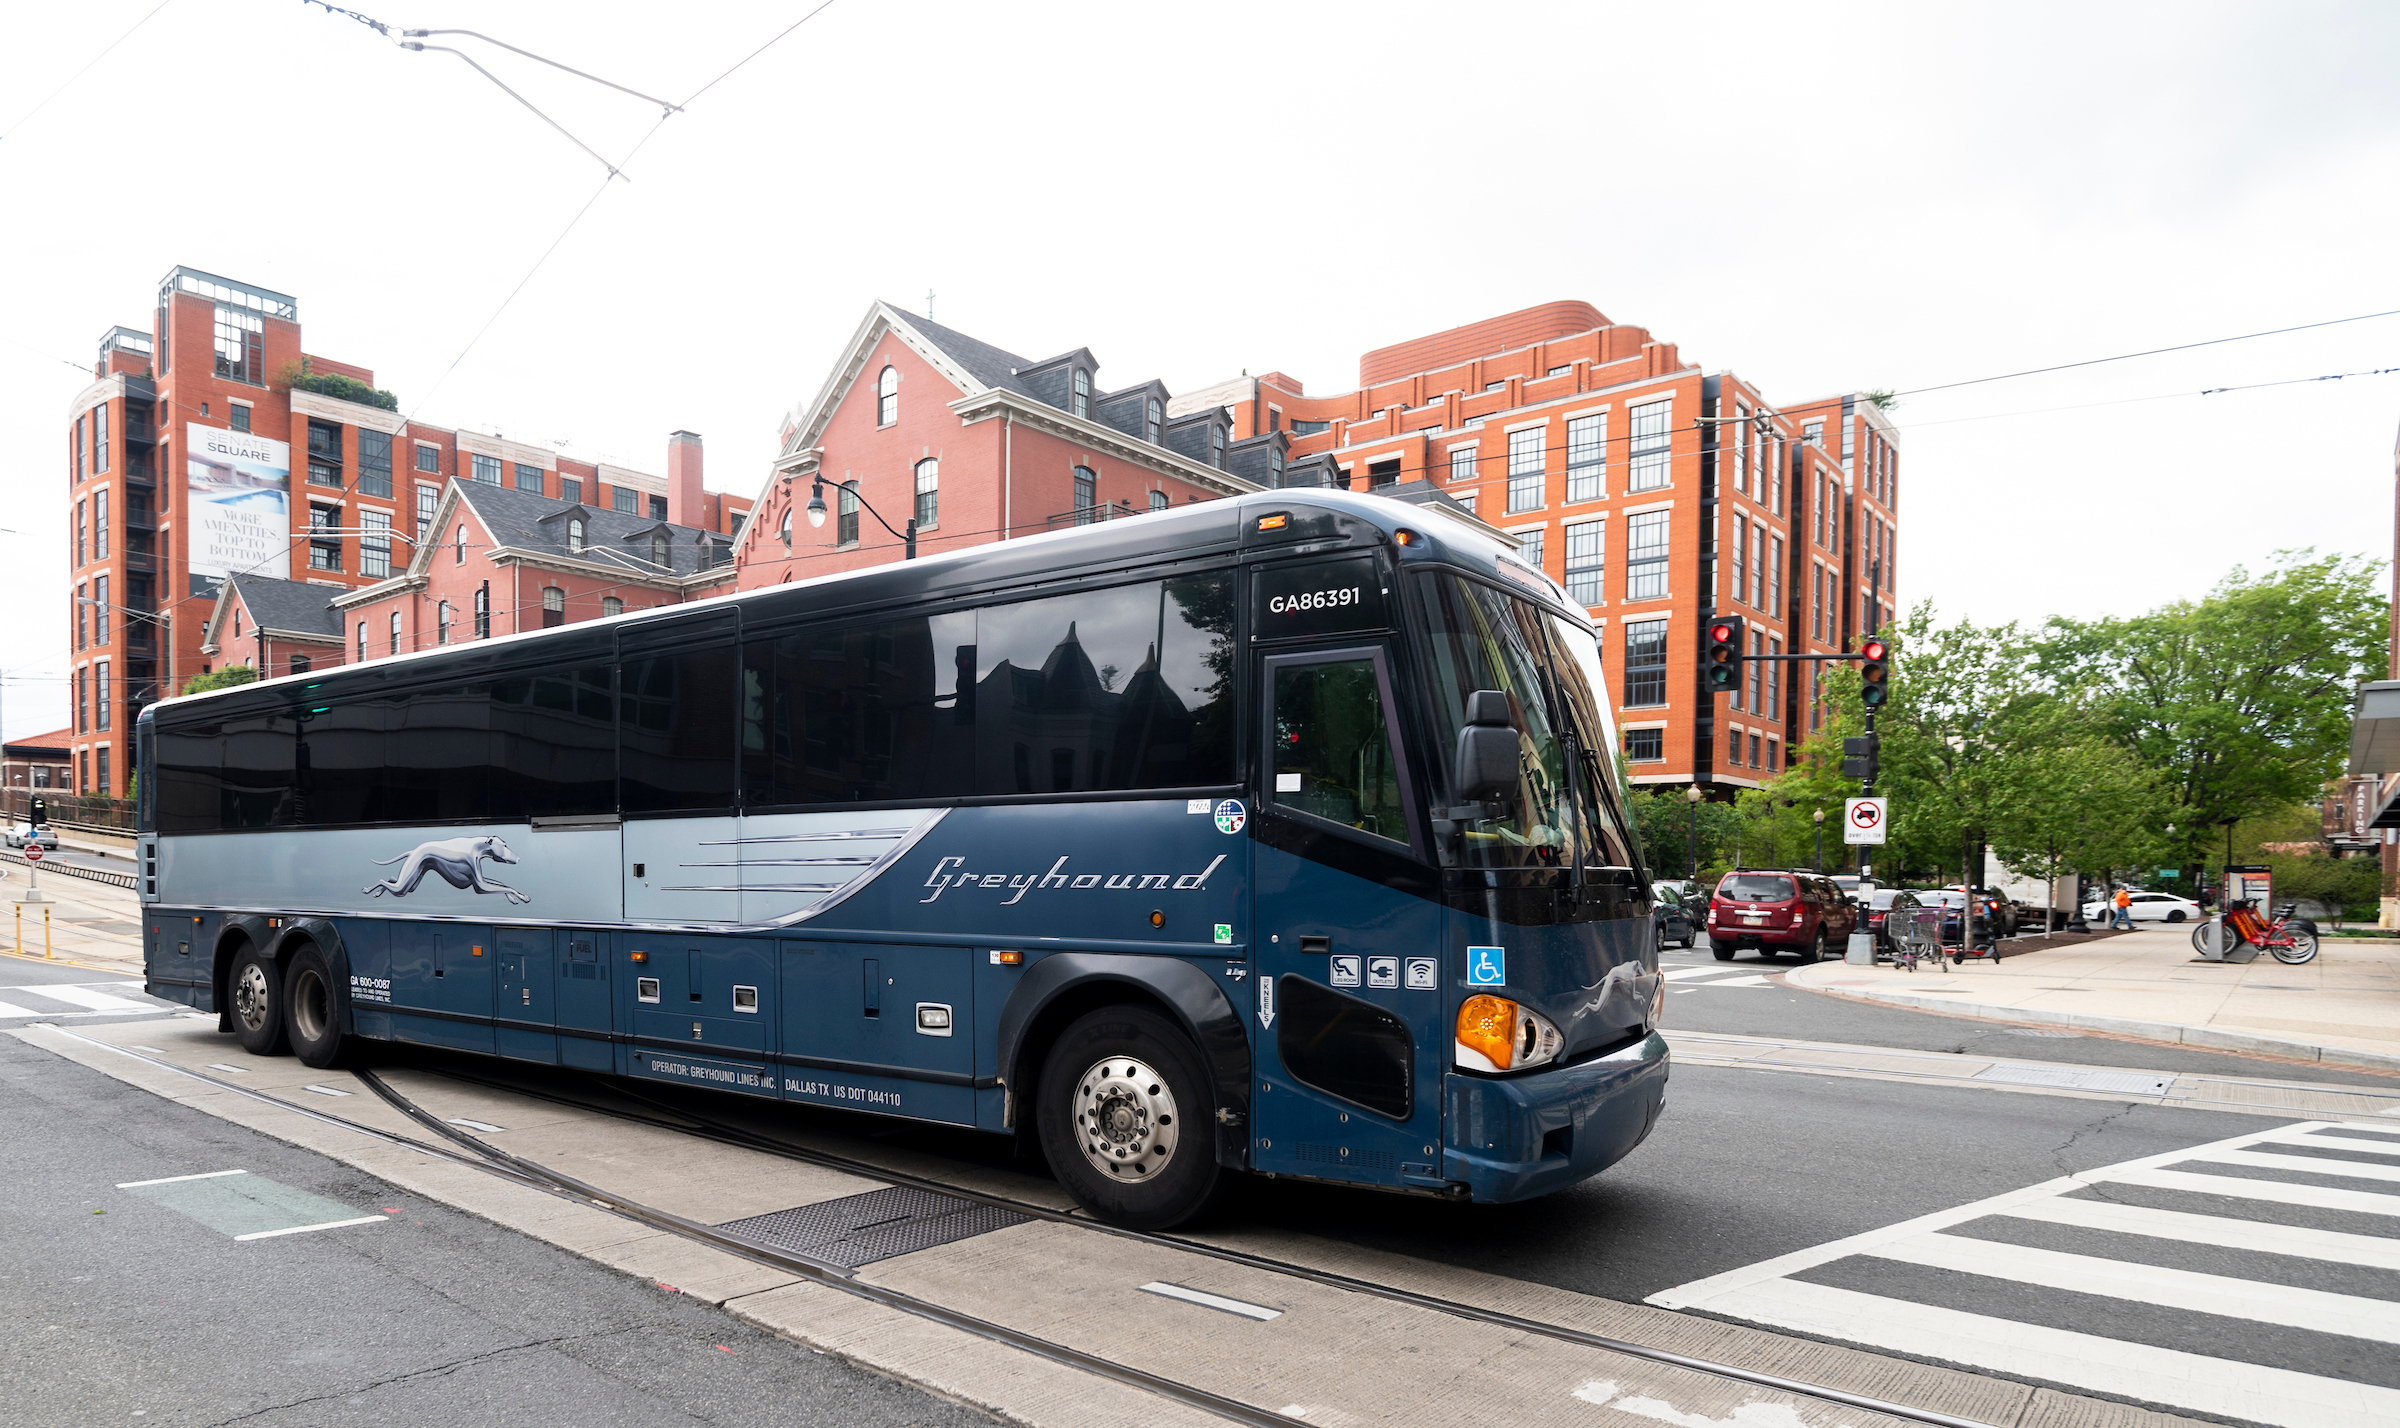bus: (136, 483, 1673, 1239)
